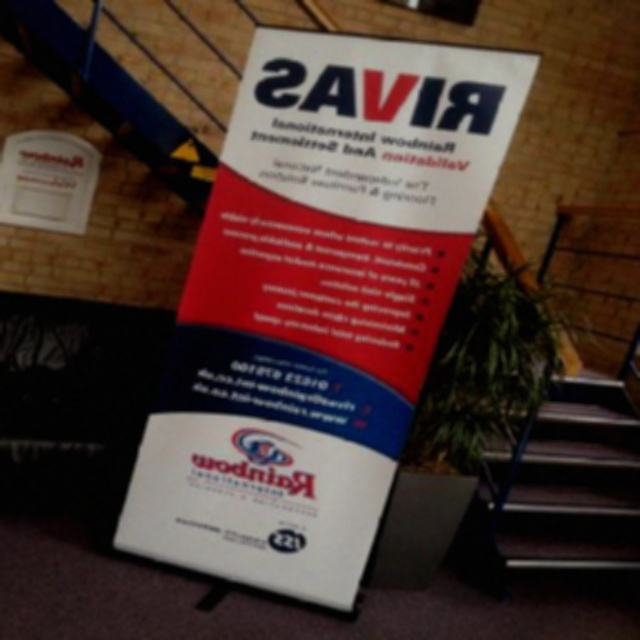stair: (431, 369, 640, 594)
